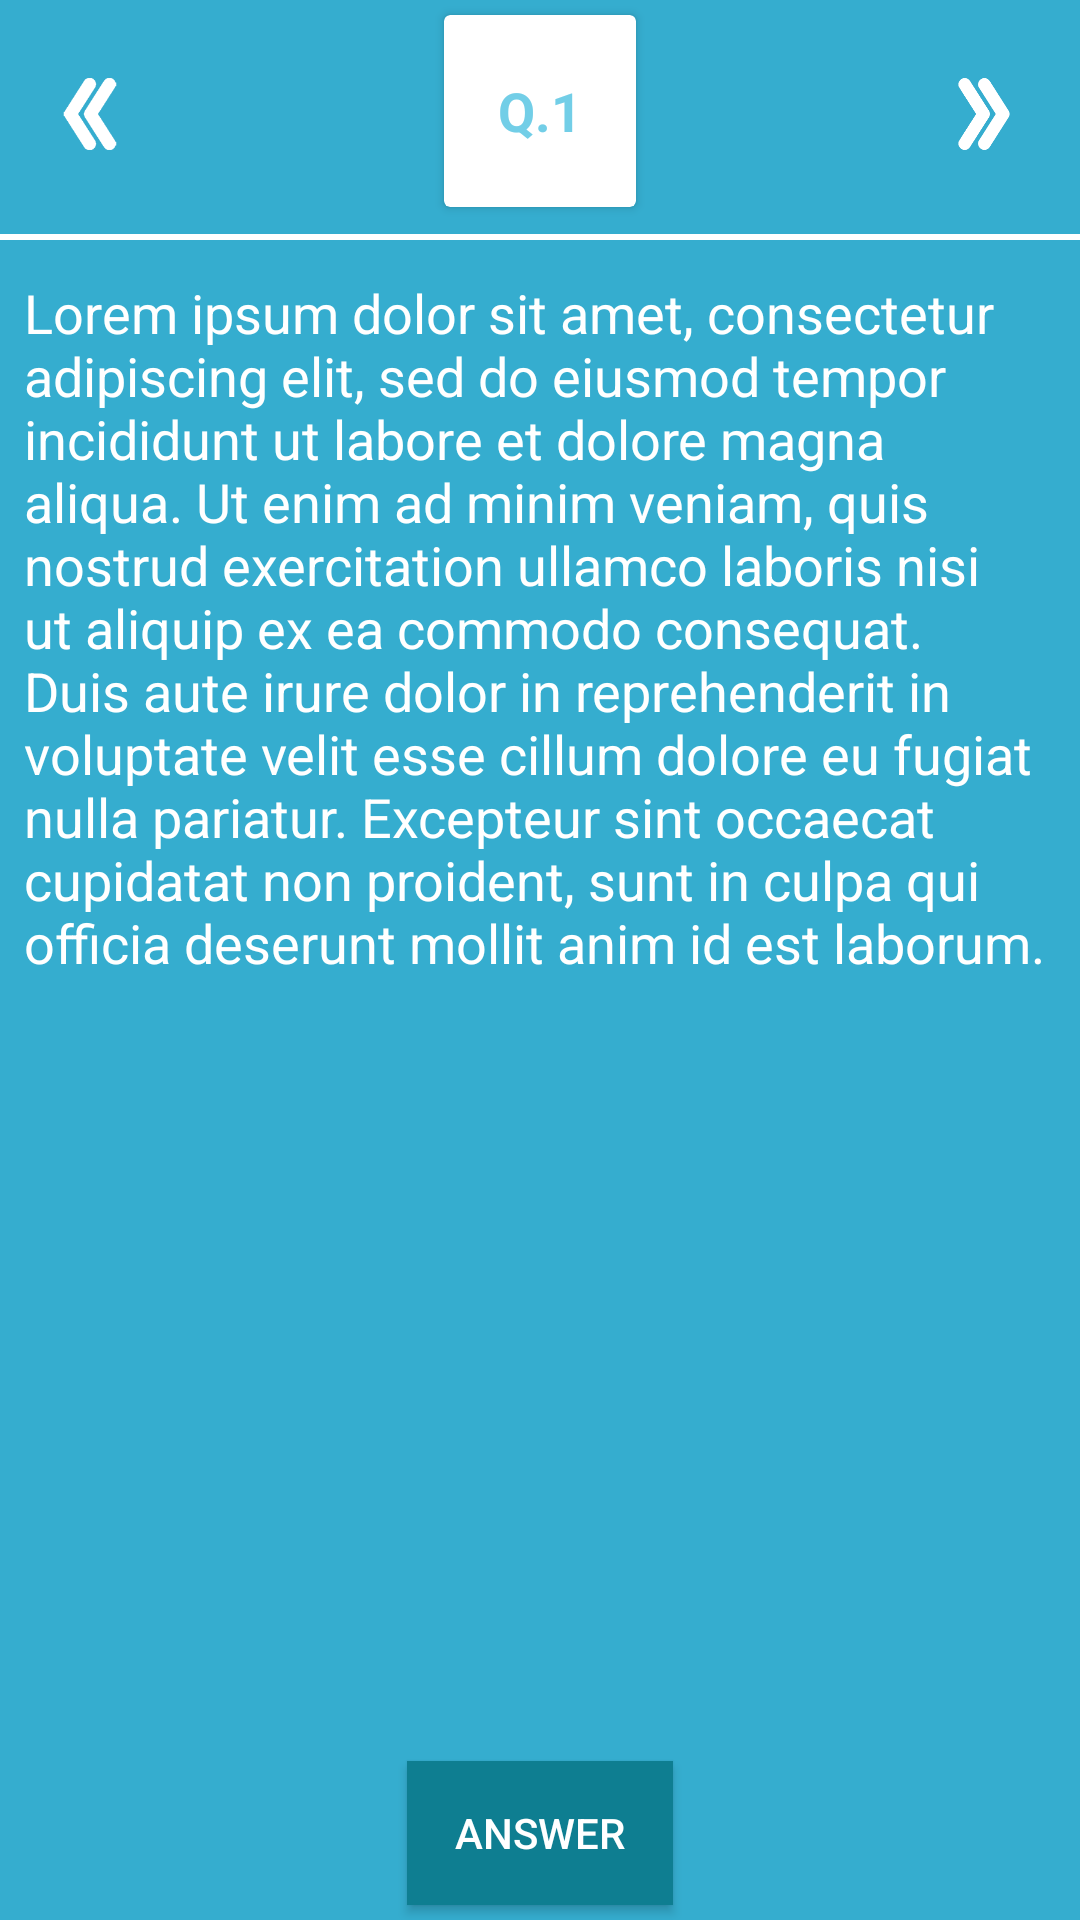

Screen size 1080px×1920px. Icon name, then its center in pixels as point (x, y):
backward: point (90, 114)
forward: point (984, 114)
